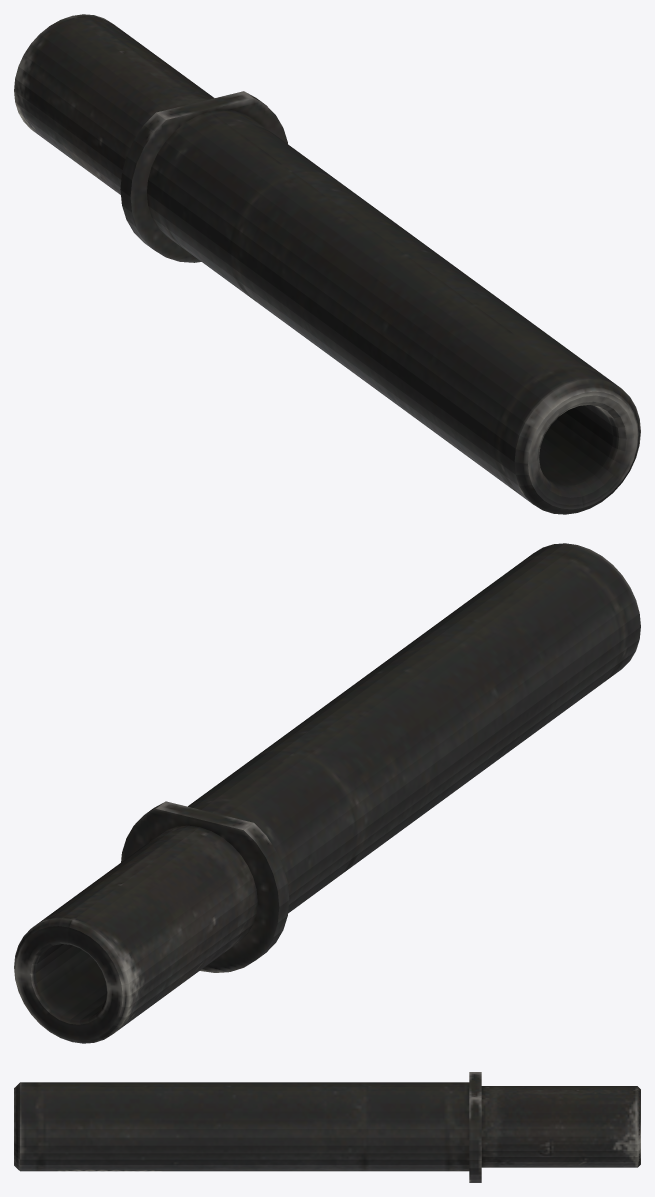
The picture shows the model from 3 angles, top to bottom: view 1: azimuth 30°, elevation 25°; view 2: azimuth 150°, elevation 25°; view 3: azimuth 270°, elevation 25°; orthographic projection. The views are drawn at different scales.
Parts seen in each view (by area): view 1: TW_66866fe776d1a87cd80fd388_PZ_Import; view 2: TW_66866fe776d1a87cd80fd388_PZ_Import; view 3: TW_66866fe776d1a87cd80fd388_PZ_Import.
Boxes of the visible parts, box(x1,y1,x2,y2) form: TW_66866fe776d1a87cd80fd388_PZ_Import: box(14, 14, 640, 514); TW_66866fe776d1a87cd80fd388_PZ_Import: box(14, 543, 640, 1043); TW_66866fe776d1a87cd80fd388_PZ_Import: box(14, 1072, 640, 1182).
Size of the model in its own units: 0.0116 by 0.065 by 0.0106.
Materials: 1 (1 with a texture image).
